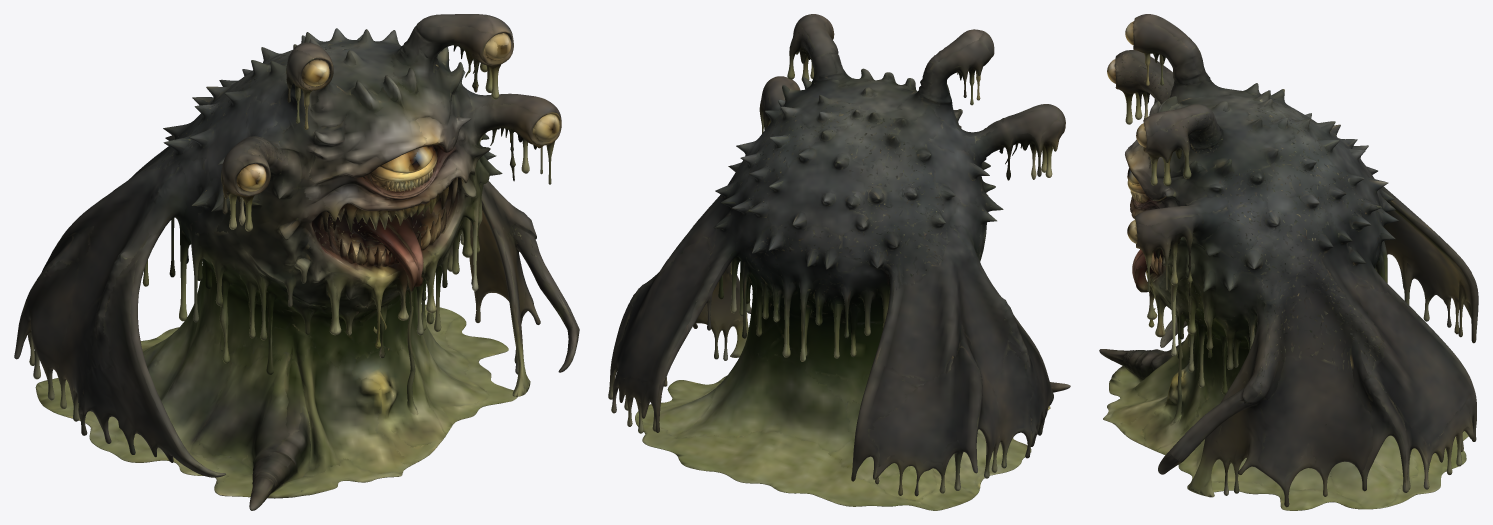
The model's file is gazer.glb.
3 renders of one model, left to right at view 1: azimuth 30°, elevation 25°; view 2: azimuth 150°, elevation 25°; view 3: azimuth 270°, elevation 25°, orthographic. The views are drawn at different scales.
Parts seen in each view (by area): view 1: material; view 2: material; view 3: material.
Boxes of the visible parts, box(x1,y1,x2,y2) form: material: box(14, 14, 579, 510); material: box(608, 14, 1070, 510); material: box(1099, 14, 1478, 510).
Bounding box in the file's own units: 0.838 × 0.7735 × 0.7075.
1 material, 1 textured.
